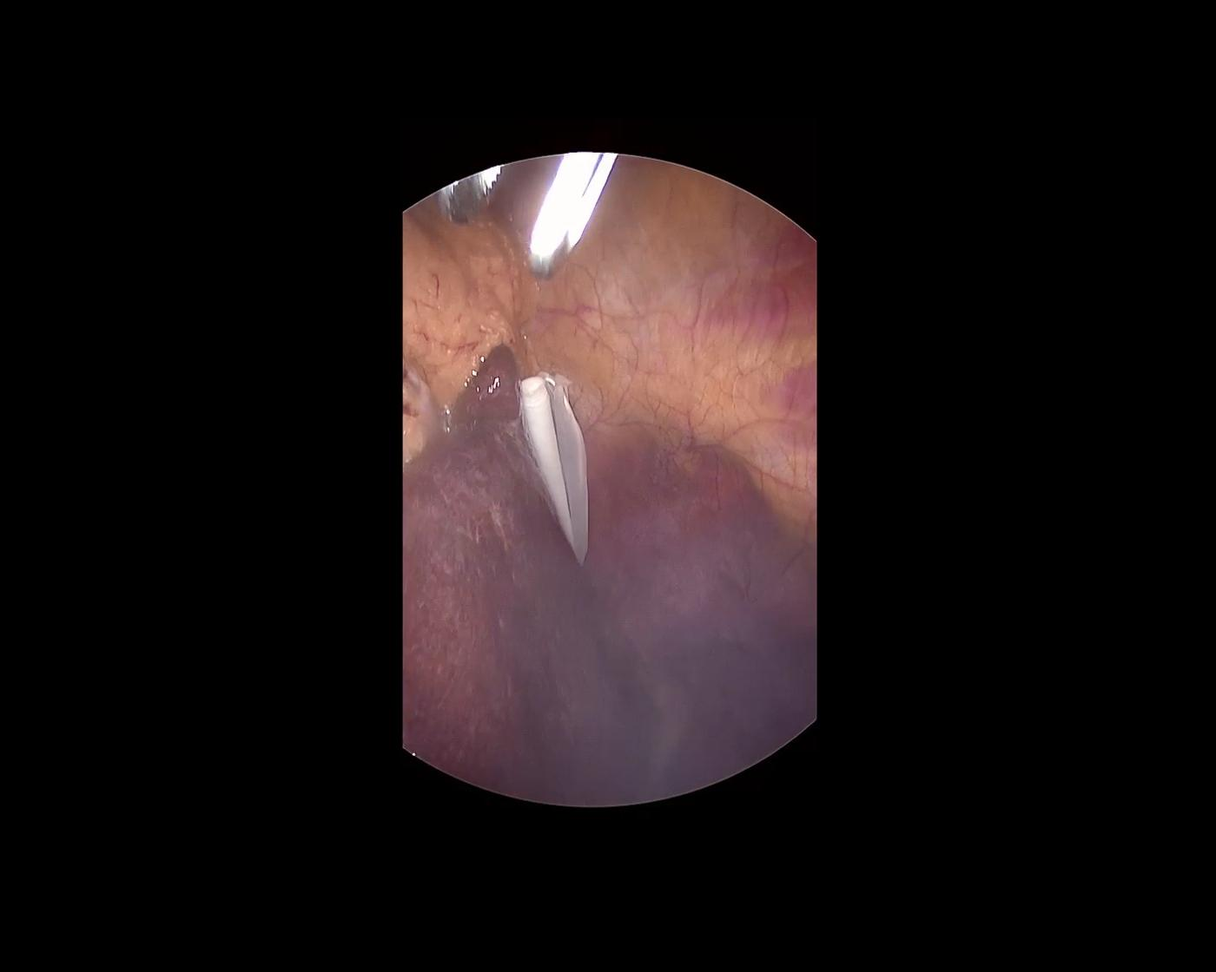Bag: (514, 368, 613, 569)
Forceps: (523, 137, 616, 278)
Gallbladder: (394, 366, 436, 469)
Liver: (285, 341, 674, 876)
